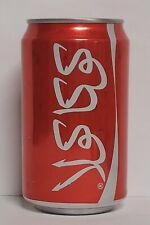metal: (22, 19, 129, 214)
